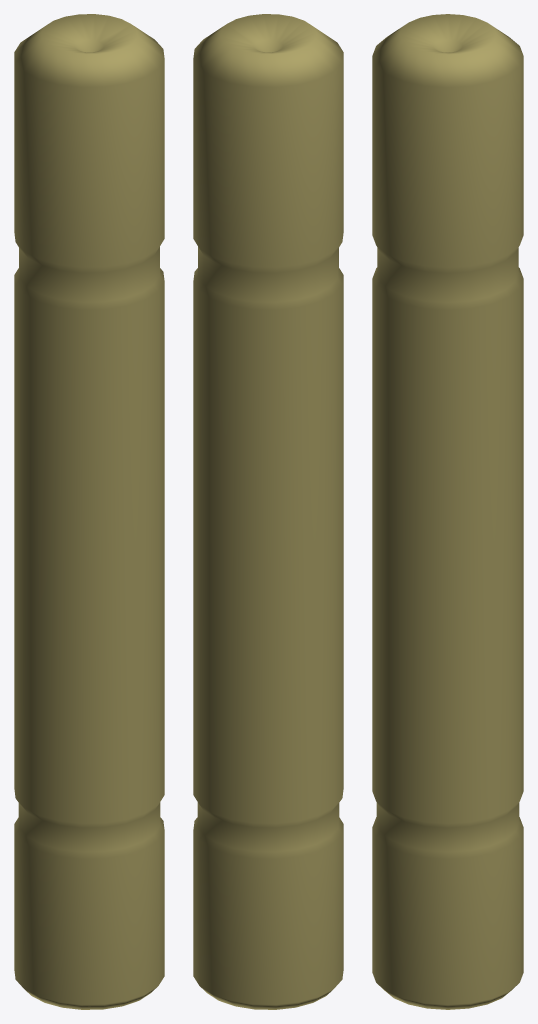
File: laser-pen.fbx
The picture shows the model from 3 angles, left to right: view 1: azimuth 30°, elevation 25°; view 2: azimuth 150°, elevation 25°; view 3: azimuth 270°, elevation 25°; orthographic projection.
Parts seen in each view (by area): view 1: pCylinder1; view 2: pCylinder1; view 3: pCylinder1.
Part boxes in pixels (left/top/right/bottom): pCylinder1: left=14, top=14, right=164, bottom=1009; pCylinder1: left=193, top=14, right=343, bottom=1009; pCylinder1: left=372, top=14, right=523, bottom=1009.
Bounding box in the file's own units: 0.4479 × 3.1 × 0.4479.
